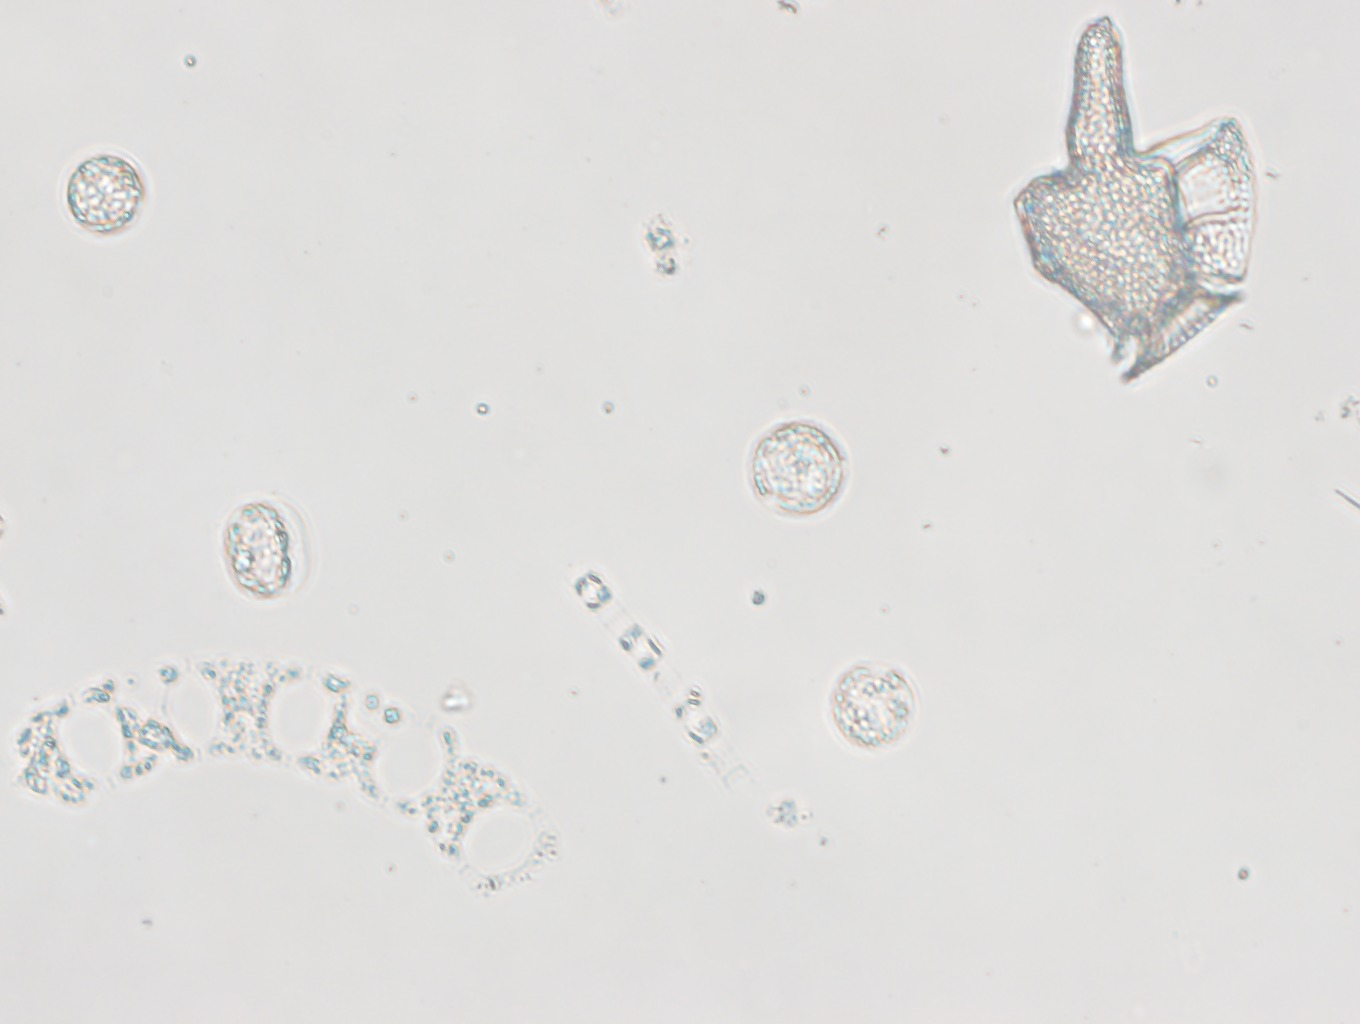dinophysis caudata: (989, 17, 1292, 384)
eucampia: (9, 648, 566, 926)
skeletonema: (568, 563, 794, 847)
